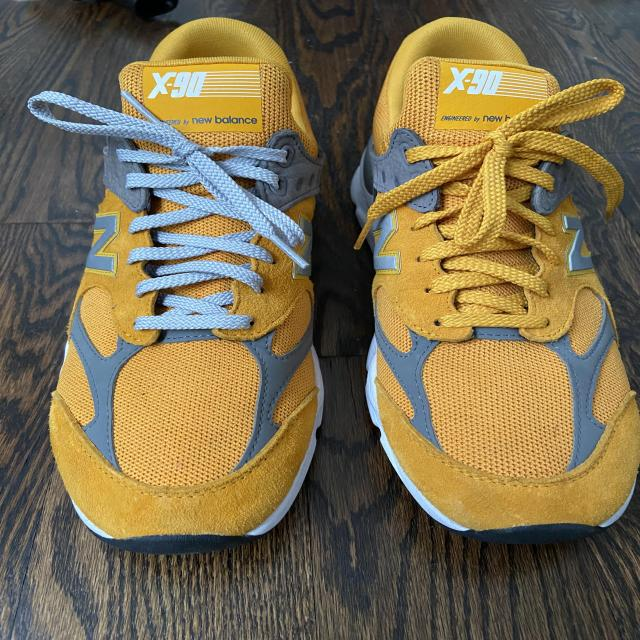shoe: (351, 15, 640, 546), (46, 15, 330, 549)
